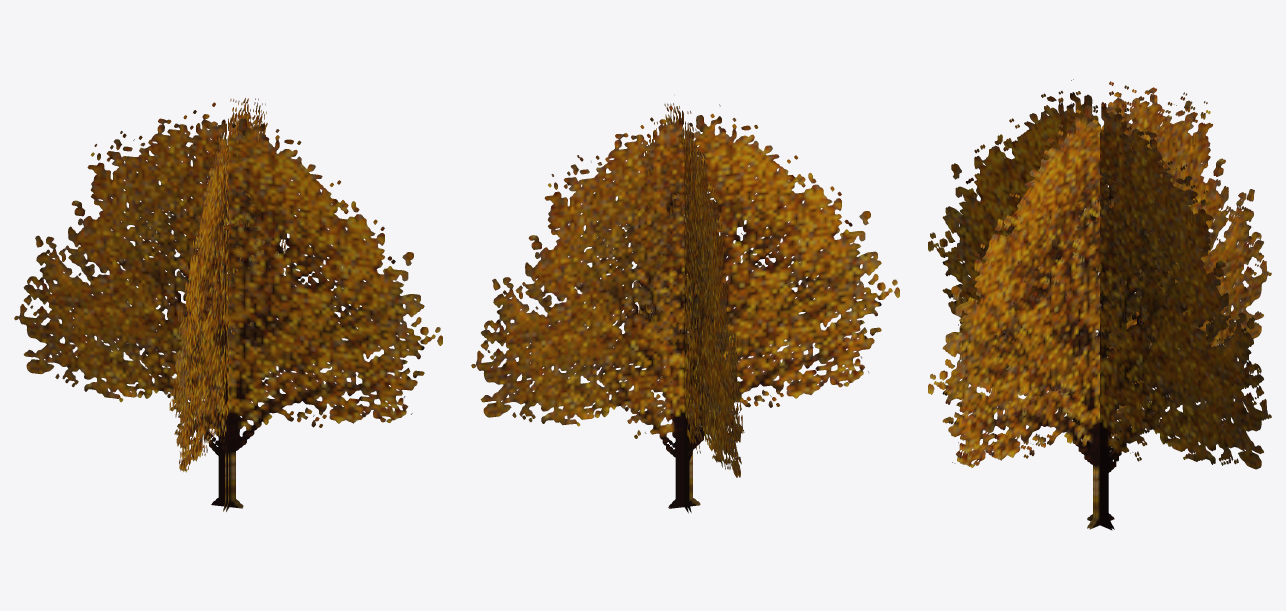
File: tree020.fbx
The picture shows the model from 3 angles, left to right: view 1: azimuth 30°, elevation 25°; view 2: azimuth 150°, elevation 25°; view 3: azimuth 270°, elevation 25°; orthographic projection. The views are drawn at different scales.
Parts seen in each view (by area): view 1: tree020; view 2: tree020; view 3: tree020.
Part boxes in pixels (<box>): tree020: <box>14,98,442,511</box>; tree020: <box>471,103,899,513</box>; tree020: <box>928,79,1271,530</box>.
Size of the model in its own units: 214 by 309 by 214.
1 material, 1 textured.
